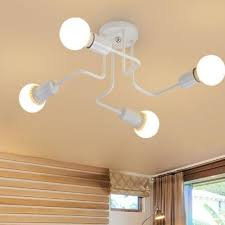bulb: (55, 11, 92, 58), (196, 39, 225, 97), (12, 74, 50, 115), (132, 102, 162, 149)
